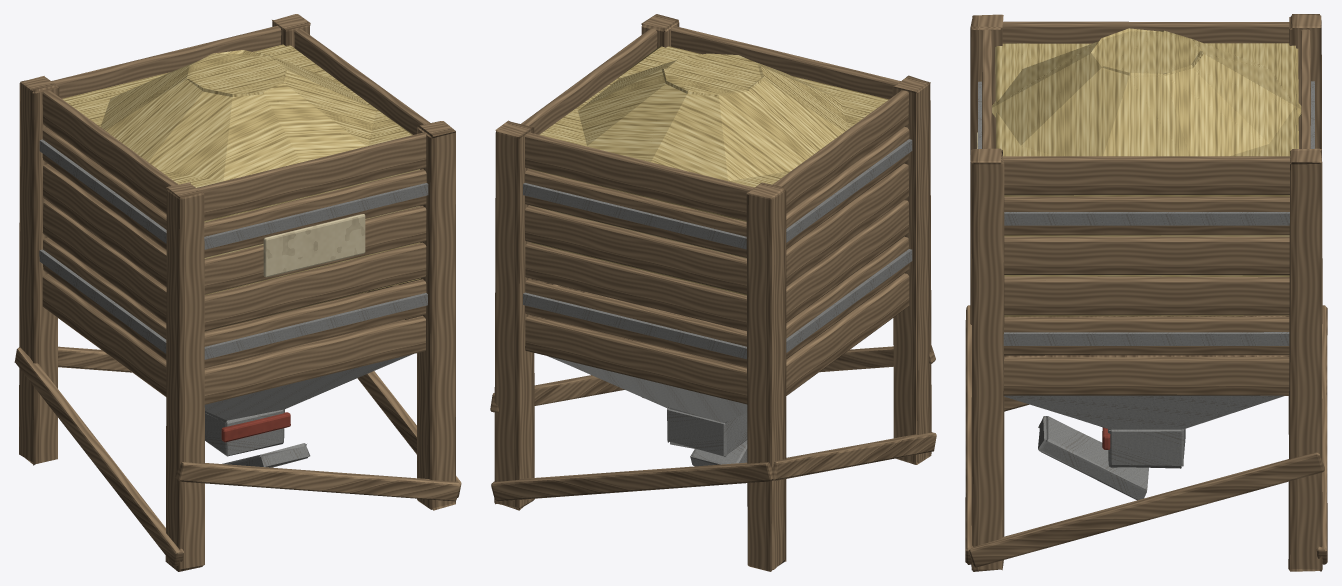
File: mill_bin_medium.glb
3 views of the same model, side by side, from view 1: azimuth 30°, elevation 25°; view 2: azimuth 150°, elevation 25°; view 3: azimuth 270°, elevation 25° (orthographic). The views are drawn at different scales.
Parts seen in each view (by area): view 1: MillBinMedium, HayFill; view 2: MillBinMedium, HayFill; view 3: MillBinMedium, HayFill.
Boxes of the visible parts, <box> form: MillBinMedium: <box>14,14,461,571</box>; HayFill: <box>62,44,420,331</box>; MillBinMedium: <box>490,14,936,571</box>; HayFill: <box>531,46,888,295</box>; MillBinMedium: <box>965,14,1327,571</box>; HayFill: <box>992,28,1301,316</box>.
Bounding box in the file's own units: 1.91 × 2.61 × 1.91.
Materials: 5 (5 with a texture image).
